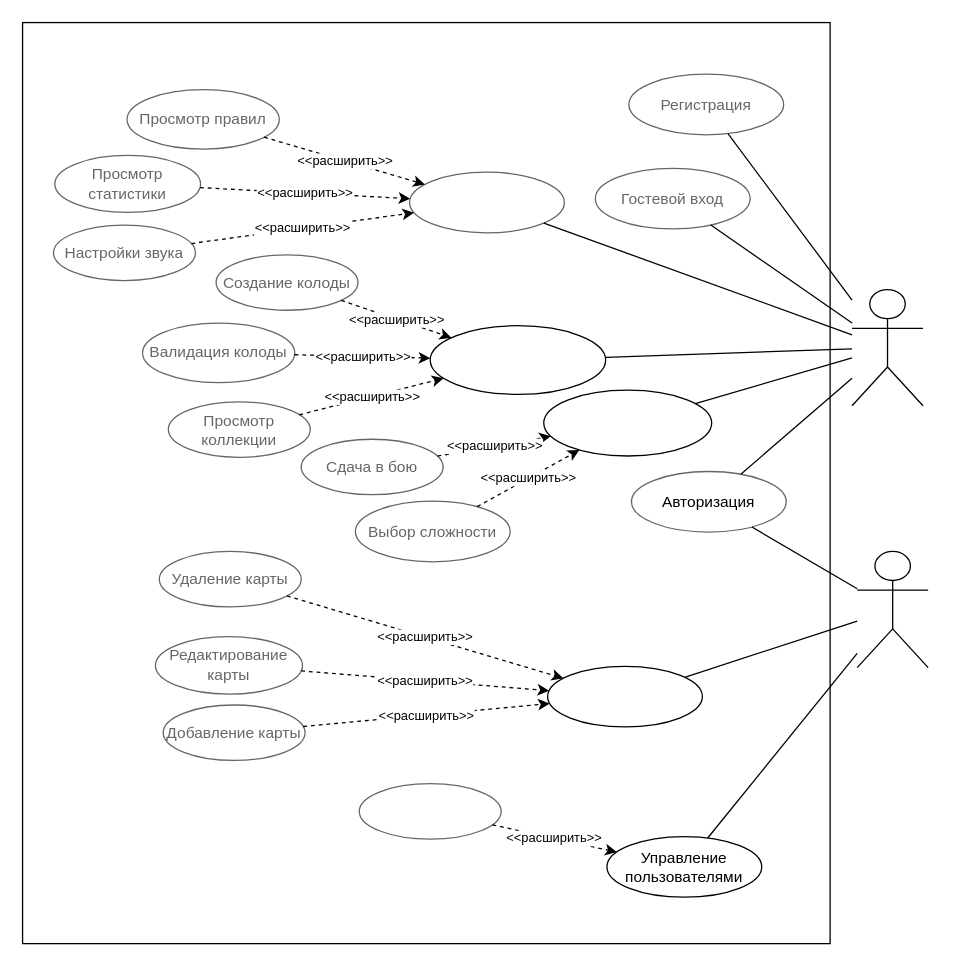
Some shapes in this 971 by 966 pixel diagram are drawn without their labels. The shapes that lost their labels are listed below. From the top down, each one's centre as x and y in pixels, then its label:
At (x=486, y=202): "Управление профилем".
At (x=517, y=359): "Управление колодами".
At (x=887, y=347): "Игрок".
At (x=627, y=422): "Проведение боя с ИИ".
At (x=892, y=609): "Администратор".
At (x=624, y=696): "Управление картами".
At (x=429, y=810): "Блокировка игрока".
